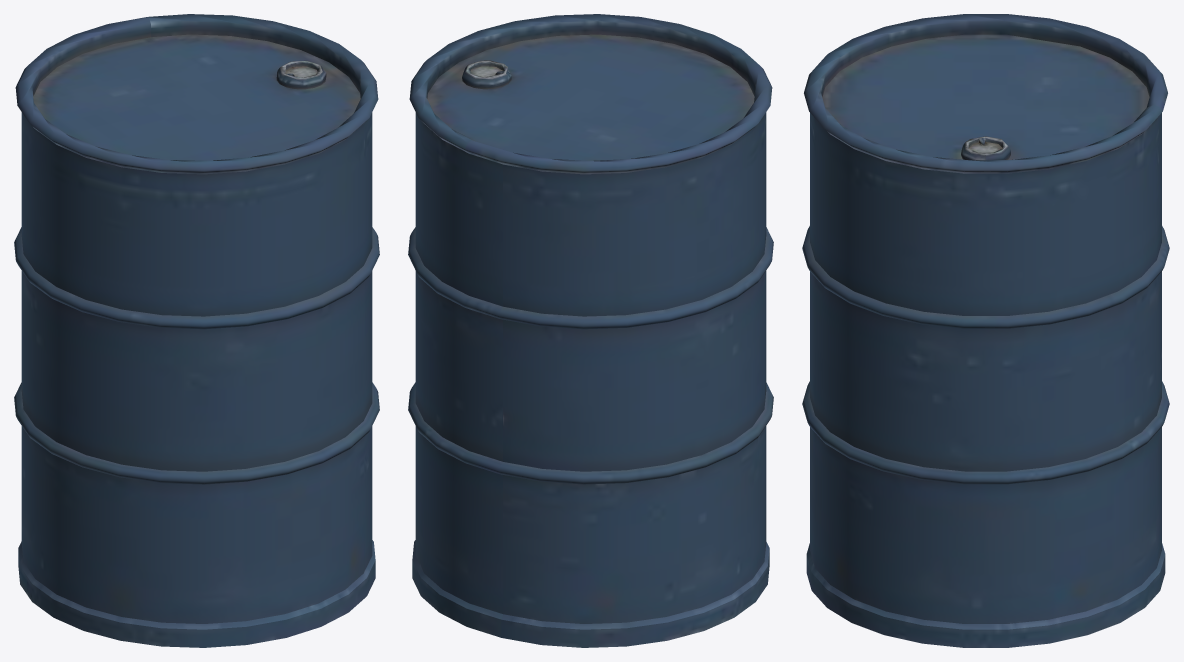
The model's file is barrel_03_lod1.glb.
The picture shows the model from 3 angles, left to right: view 1: azimuth 30°, elevation 25°; view 2: azimuth 150°, elevation 25°; view 3: azimuth 270°, elevation 25°; orthographic projection.
Parts seen in each view (by area): view 1: barrel_03; view 2: barrel_03; view 3: barrel_03.
Boxes of the visible parts, x1,y1,x2,y2 form: barrel_03: (14,14,379,647); barrel_03: (408,14,773,647); barrel_03: (802,14,1169,647).
Size of the model in its own units: 0.634 by 0.9305 by 0.6386.
Materials: 1 (1 with a texture image).
